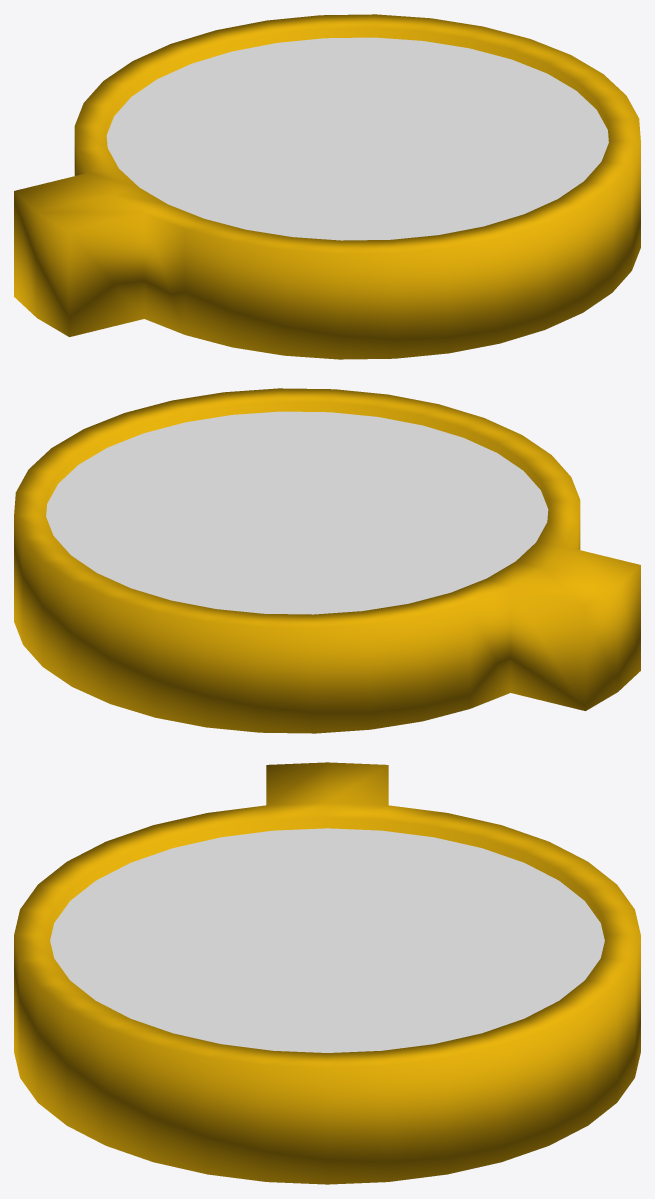
The model's file is Relogio.fbx.
The picture shows the model from 3 angles, top to bottom: view 1: azimuth 30°, elevation 25°; view 2: azimuth 150°, elevation 25°; view 3: azimuth 270°, elevation 25°; orthographic projection. The views are drawn at different scales.
Parts seen in each view (by area): view 1: Cylinder, Cylinder.003; view 2: Cylinder, Cylinder.003; view 3: Cylinder, Cylinder.003.
Part boxes in pixels (x1,y1,x2,y2): Cylinder: [14, 14, 640, 359]; Cylinder.003: [106, 37, 608, 240]; Cylinder: [14, 388, 640, 733]; Cylinder.003: [46, 411, 548, 614]; Cylinder: [14, 762, 640, 1184]; Cylinder.003: [50, 828, 604, 1052].
Size of the model in its own units: 231 by 41.1 by 200.
